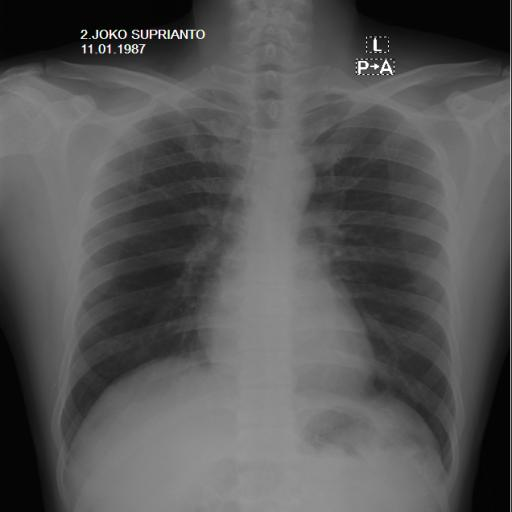normal: (51, 57, 465, 491)
